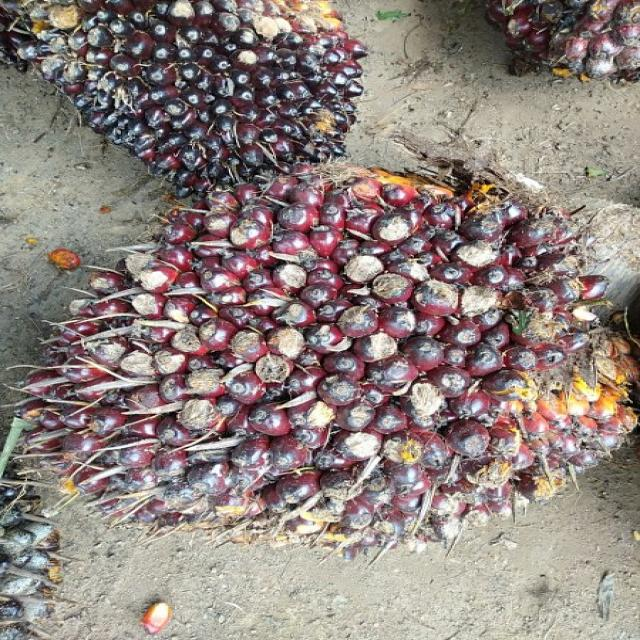fraksi 1: (34, 161, 638, 549)
